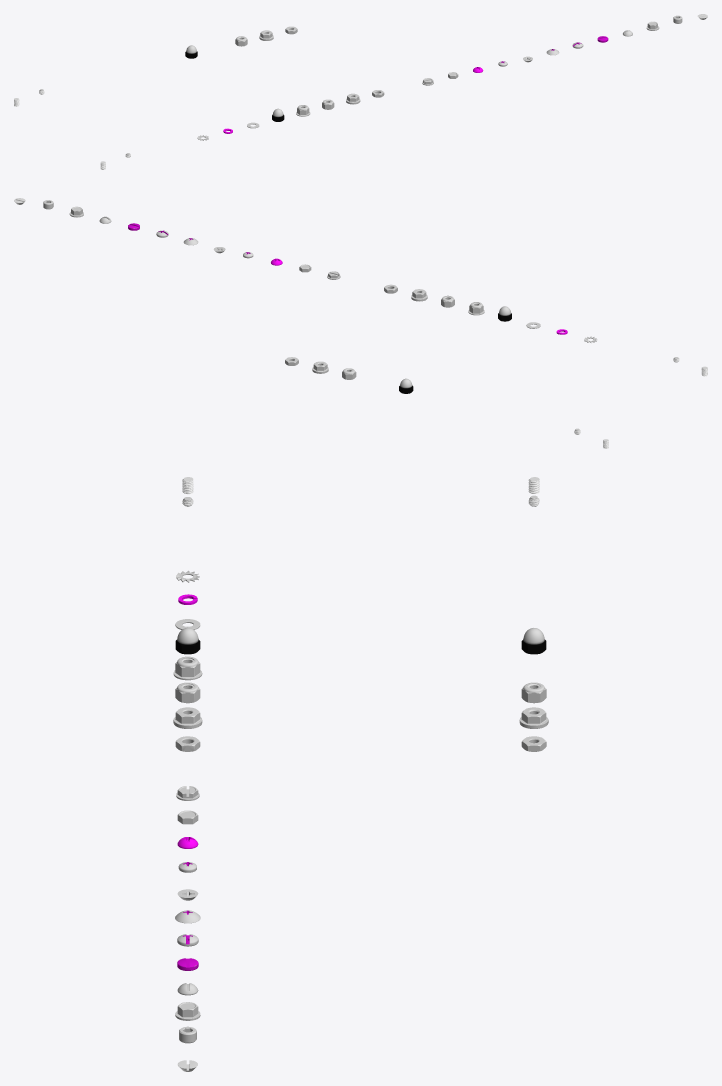
Rendered from Hardware 10-Gauge (Hipoly).fbx.
3 views of the same model, one above another, from view 1: azimuth 30°, elevation 25°; view 2: azimuth 150°, elevation 25°; view 3: azimuth 270°, elevation 25° (orthographic). The views are drawn at different scales.
Size of the model in its own units: 61.65 by 1.67 by 16.51.
